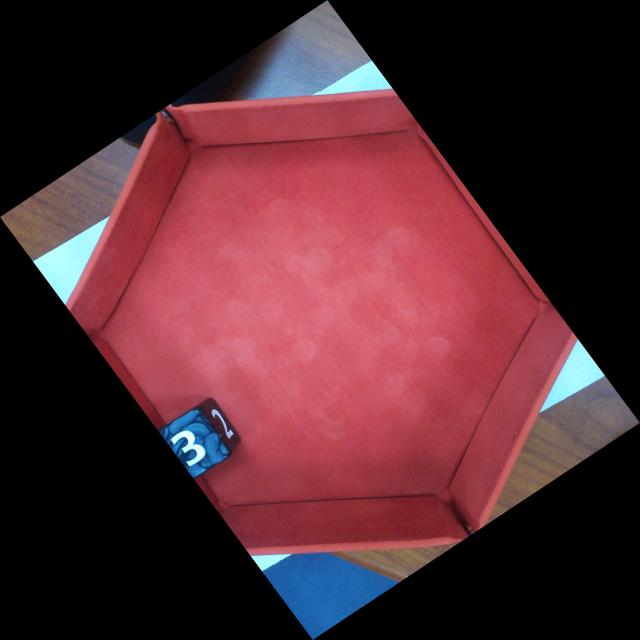dice: (165, 407, 230, 477)
